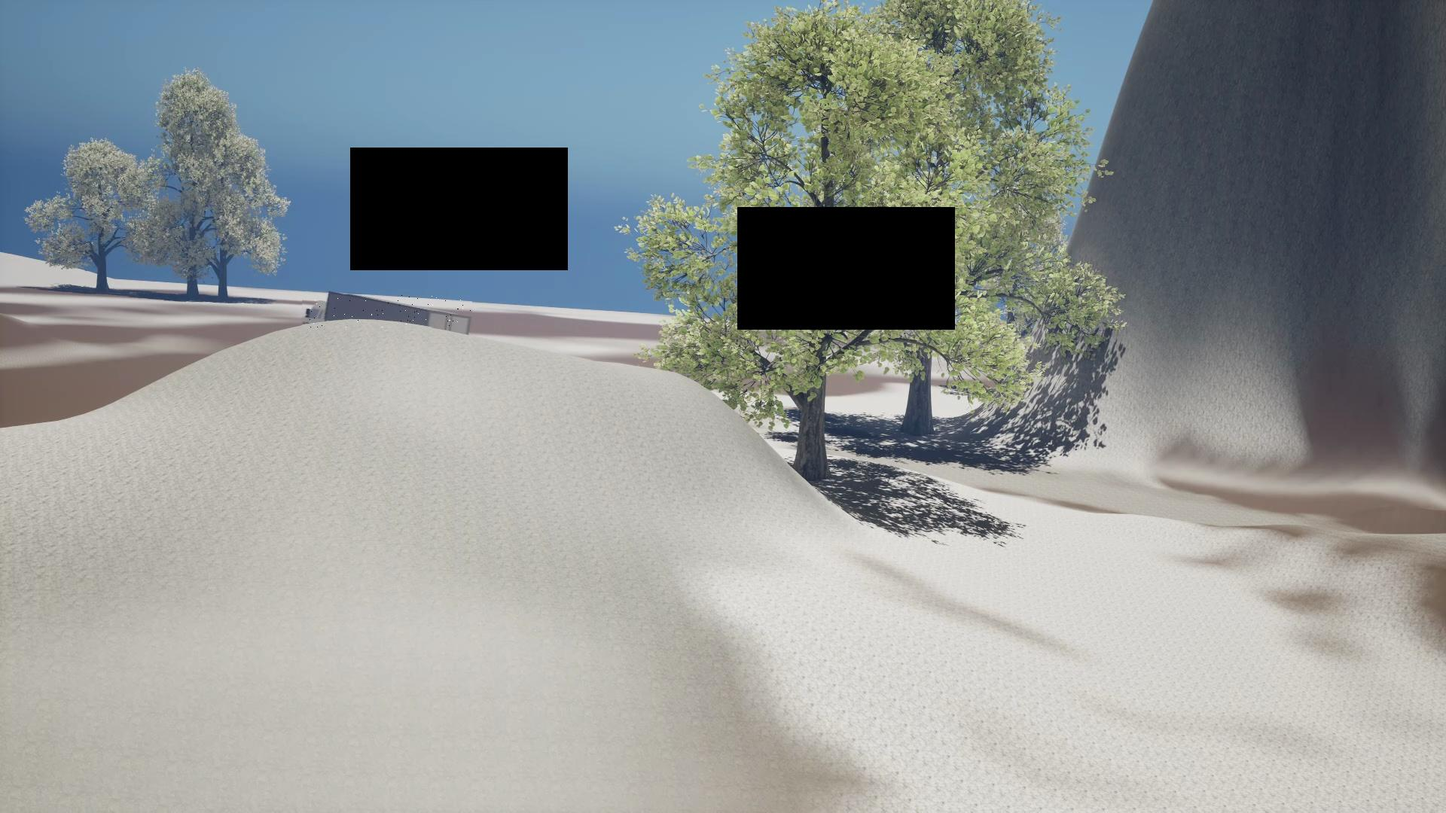truck: (302, 295, 472, 328)
